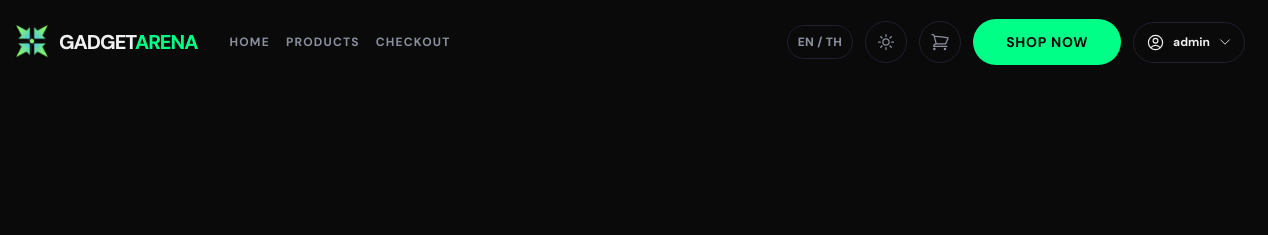
it: Header › opens the authenticated username menu with Products, Checkout, and Sign out
expect the menu is not shown: met
Click the button "admin".
click(1189, 42)  # box [1133,22,1245,62]
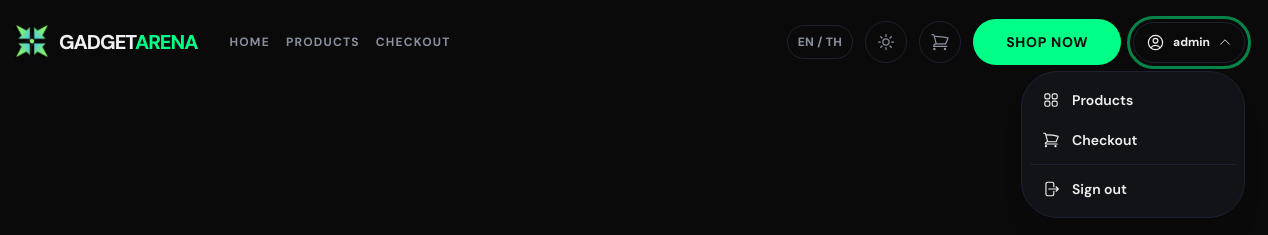
expect the menu item "My orders" is not shown: met
expect the button "admin" is expanded: met, box [1133,22,1245,62]
